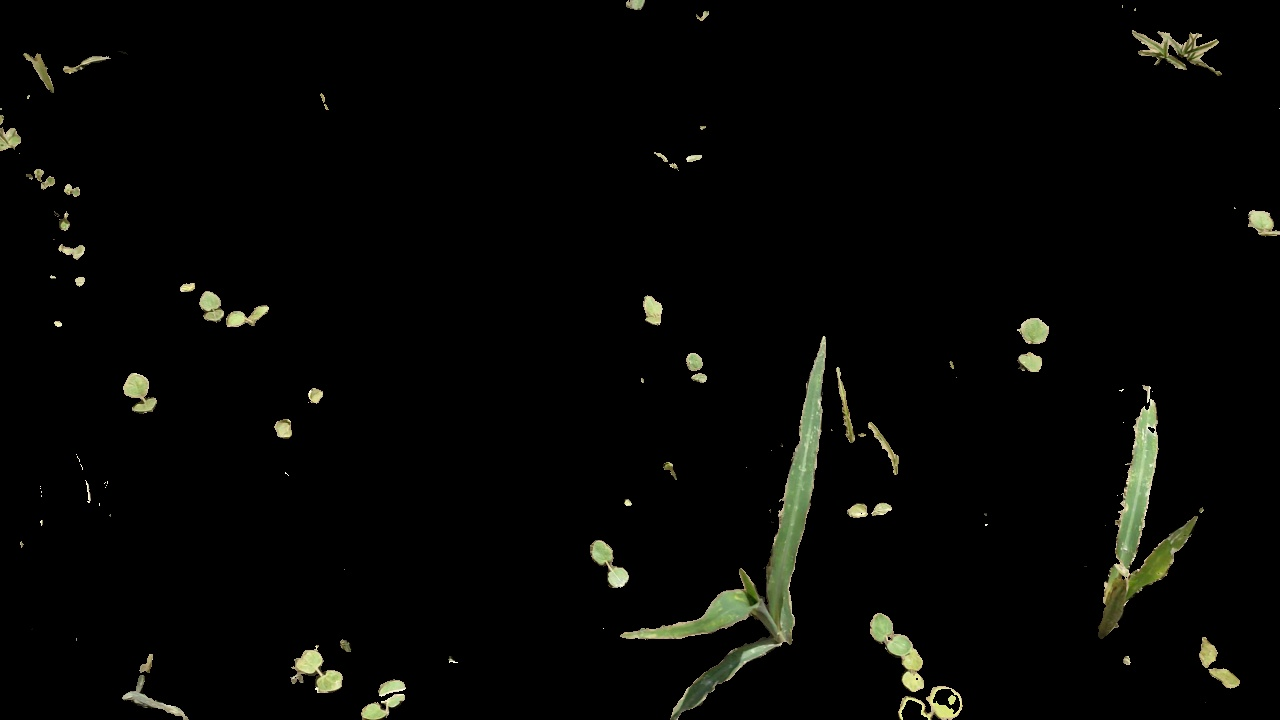crop: (724, 324, 831, 698), (1075, 355, 1193, 641), (662, 556, 825, 719)
weed: (850, 605, 989, 720), (1131, 21, 1232, 81), (1193, 621, 1249, 692), (292, 634, 348, 699), (1013, 306, 1054, 375), (590, 527, 633, 591), (360, 671, 416, 717), (119, 371, 170, 412), (1243, 198, 1278, 247), (226, 301, 271, 334), (845, 501, 895, 524), (685, 351, 715, 387), (639, 297, 670, 331), (199, 283, 223, 323)
